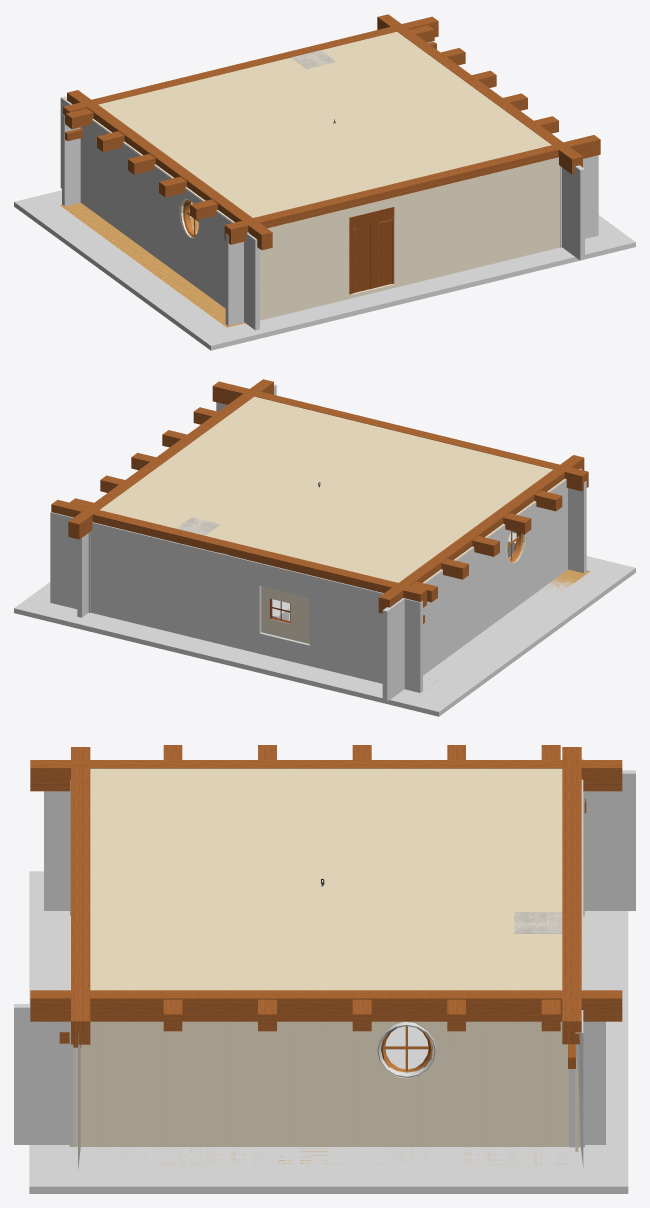
File: house.glb
3 views of the same model, one above another, from view 1: azimuth 30°, elevation 25°; view 2: azimuth 150°, elevation 25°; view 3: azimuth 270°, elevation 25° (orthographic). The views are drawn at different scales.
Visible parts, largest first — view 1: HOUSE_ROOF, HOUSE_WALL_FRONT, COL_BOX_HOUSE_FLOOR, COL_BOX_HOUSE_WALL_LEFT, Flat_Beams_Front, TOP_BEAMS, INTERACT_EXIT_DOOR_01, Flat_Beams_Left, HOUSE_FLOOR, Flat_Beams_Back, COL_BOX_HOUSE_WALL_FRONT, Flat_Beams_Right (+4 smaller); view 2: HOUSE_ROOF, COL_BOX_HOUSE_WALL_BACK, COL_BOX_HOUSE_FLOOR, COL_BOX_HOUSE_WALL_LEFT, Flat_Beams_Back, TOP_BEAMS, Flat_Beams_Left, Flat_Beams_Front, Flat_Beams_Right, HOUSE_WALL_BACK, COL_BOX_HOUSE_WALL_FRONT, COL_BOX_HOUSE_WALL_RIGHT (+1 smaller); view 3: HOUSE_ROOF, HOUSE_WALL_RIGHT, COL_BOX_HOUSE_FLOOR, Flat_Beams_Right, COL_BOX_HOUSE_WALL_RIGHT, COL_BOX_HOUSE_WALL_LEFT, Flat_Beams_Left, Flat_Beams_Back, Flat_Beams_Front, TOP_BEAMS, COL_BOX_HOUSE_WALL_BACK, Cube.008 (+3 smaller).
Part boxes in pixels (x1,y1,x2,y2): HOUSE_ROOF: (98, 32, 551, 217); HOUSE_WALL_FRONT: (260, 157, 559, 320); COL_BOX_HOUSE_FLOOR: (14, 190, 635, 350); COL_BOX_HOUSE_WALL_LEFT: (60, 96, 259, 330); Flat_Beams_Front: (224, 135, 600, 244); TOP_BEAMS: (65, 25, 558, 220); INTERACT_EXIT_DOOR_01: (349, 207, 394, 294); Flat_Beams_Left: (67, 90, 272, 250); HOUSE_FLOOR: (60, 202, 244, 327); Flat_Beams_Back: (63, 16, 438, 123); COL_BOX_HOUSE_WALL_FRONT: (225, 155, 598, 325); Flat_Beams_Right: (377, 14, 582, 174); HOUSE_ROOF: (100, 396, 552, 582); COL_BOX_HOUSE_WALL_BACK: (50, 512, 422, 692); COL_BOX_HOUSE_FLOOR: (14, 556, 635, 716); COL_BOX_HOUSE_WALL_LEFT: (382, 468, 581, 701); Flat_Beams_Back: (51, 500, 426, 607); TOP_BEAMS: (70, 407, 562, 602); Flat_Beams_Left: (378, 455, 584, 613); Flat_Beams_Front: (212, 381, 588, 491); Flat_Beams_Right: (68, 379, 273, 539); HOUSE_WALL_BACK: (261, 586, 309, 643); COL_BOX_HOUSE_WALL_FRONT: (216, 402, 586, 573); COL_BOX_HOUSE_WALL_RIGHT: (77, 384, 276, 617); HOUSE_ROOF: (90, 768, 562, 990); HOUSE_WALL_RIGHT: (73, 1021, 568, 1146); COL_BOX_HOUSE_FLOOR: (29, 871, 628, 1193); Flat_Beams_Right: (30, 990, 622, 1021); COL_BOX_HOUSE_WALL_RIGHT: (14, 1004, 605, 1144); COL_BOX_HOUSE_WALL_LEFT: (44, 770, 635, 910); Flat_Beams_Left: (30, 760, 622, 791); Flat_Beams_Back: (562, 747, 581, 1044); Flat_Beams_Front: (71, 747, 90, 1044); TOP_BEAMS: (163, 745, 560, 1031); COL_BOX_HOUSE_WALL_BACK: (575, 758, 583, 1167); Cube.008: (514, 912, 562, 933).
Bounding box in the file's own units: 23.32 × 6.13 × 19.43.
77 materials, 19 textured.
